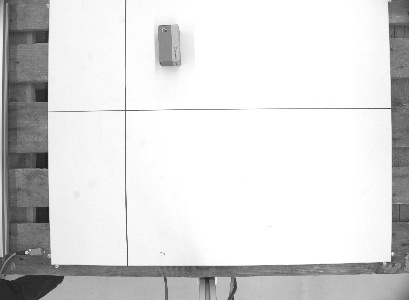b3: (155, 22, 184, 67)
